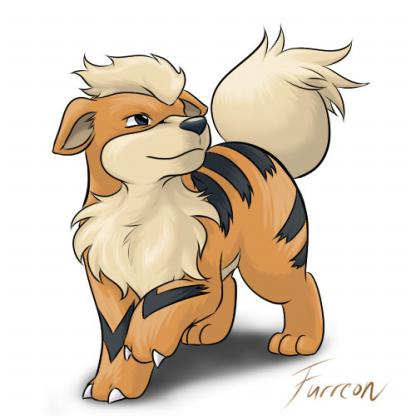Growlithe: (51, 31, 347, 402)
